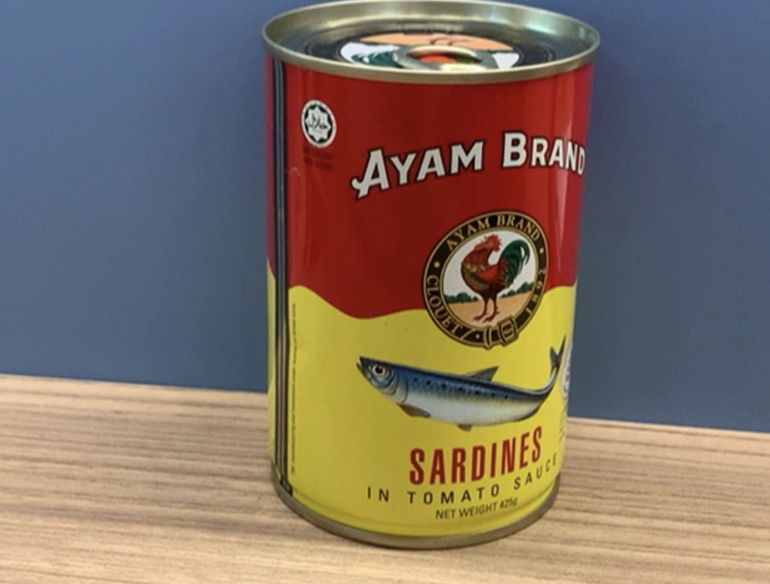sardines_400g-499g: (288, 45, 561, 517)
